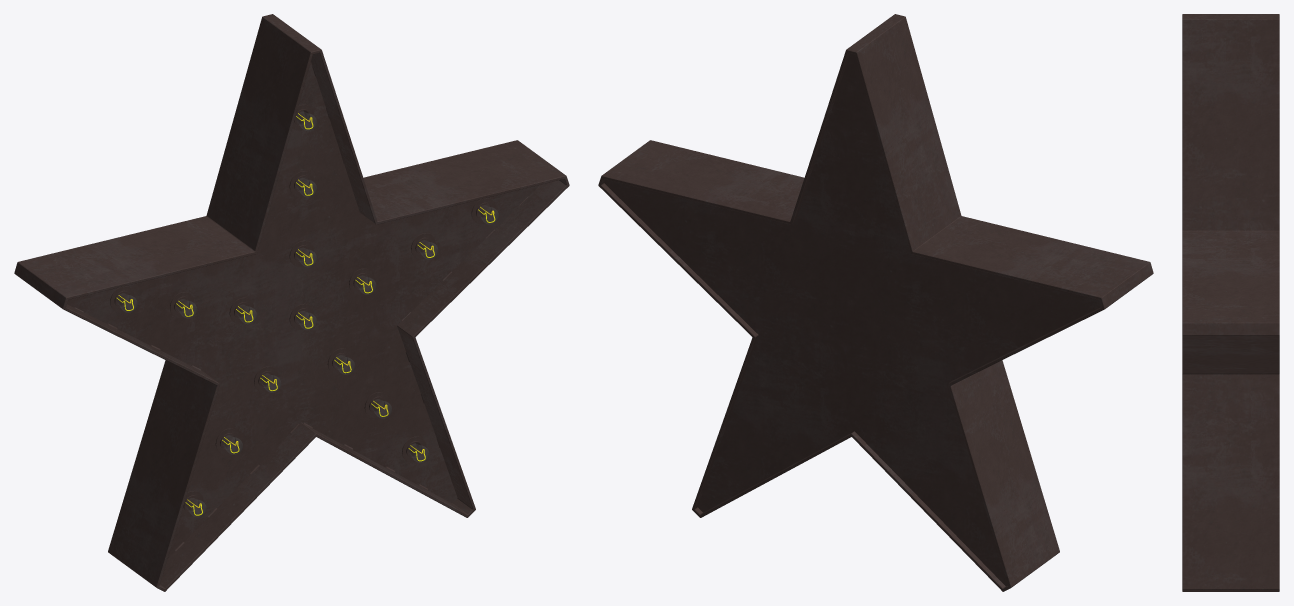
The picture shows the model from 3 angles, left to right: view 1: azimuth 30°, elevation 25°; view 2: azimuth 150°, elevation 25°; view 3: azimuth 270°, elevation 25°; orthographic projection.
Parts seen in each view (by area): view 1: Broadway_Star_Floor_Lamp_METAL_0, Broadway_Star_Floor_Lamp_GLASS_0, Broadway_Star_Floor_Lamp_LIGHT_0; view 2: Broadway_Star_Floor_Lamp_METAL_0; view 3: Broadway_Star_Floor_Lamp_METAL_0.
Boxes of the visible parts, x1=… form: Broadway_Star_Floor_Lamp_METAL_0: x1=14, y1=14, x2=569, y2=591; Broadway_Star_Floor_Lamp_GLASS_0: x1=117, y1=112, x2=498, y2=517; Broadway_Star_Floor_Lamp_LIGHT_0: x1=117, y1=113, x2=495, y2=515; Broadway_Star_Floor_Lamp_METAL_0: x1=598, y1=14, x2=1153, y2=591; Broadway_Star_Floor_Lamp_METAL_0: x1=1182, y1=14, x2=1279, y2=591.
Size of what is drawn, in the model's own units: 77.61 by 73.79 by 13.
3 materials, 1 textured.
